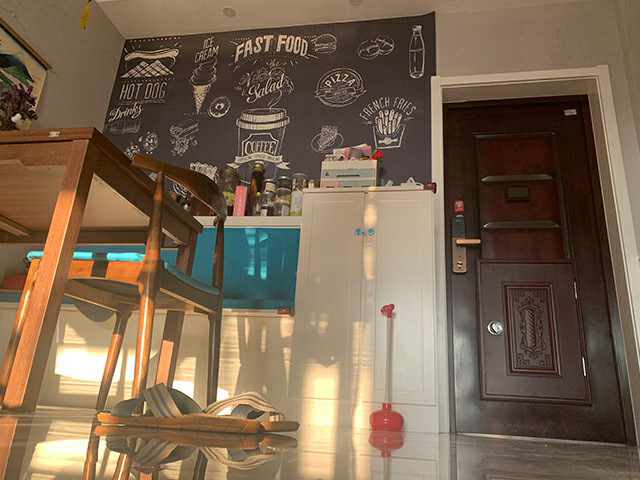cabinet: (291, 182, 440, 436)
slippers: (96, 382, 300, 436)
stool: (1, 154, 228, 414)
table: (1, 125, 205, 415)
